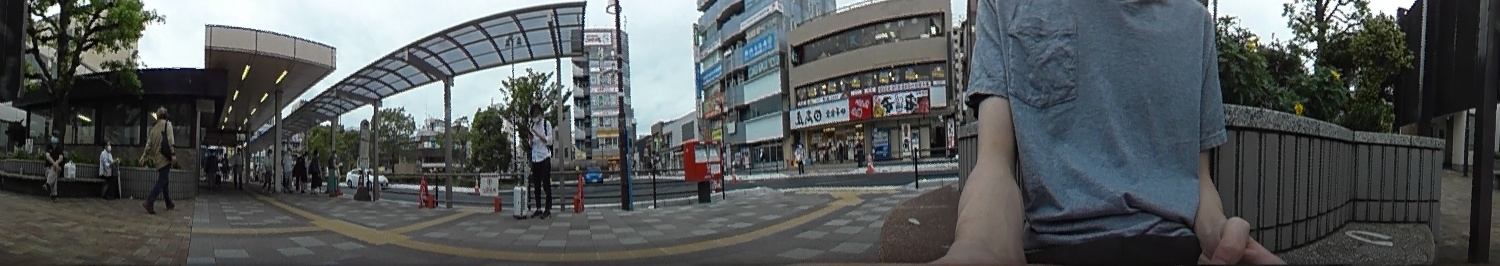difficult_person: (262, 148, 277, 189), (327, 151, 342, 191), (233, 144, 246, 185), (299, 151, 311, 189), (284, 149, 295, 189), (312, 147, 322, 188), (207, 153, 219, 184), (794, 143, 805, 174), (855, 137, 864, 166)
person: (145, 103, 178, 213), (525, 104, 553, 219), (39, 129, 64, 189), (99, 140, 121, 203)
